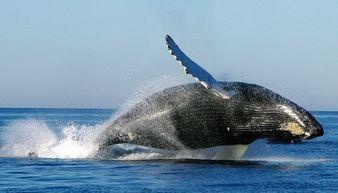fish: (58, 32, 327, 161)
